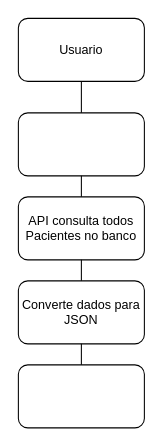
The diagram is 163 pixels wide and 446 high, and some of its shapes have lost their labels. Here are the shapes that lost their labels. From the top down, the box of each, then its label:
(17, 112, 144, 176): Envia requisição GET /pacientes
(17, 364, 144, 428): Retorna lista de pacientes (200)
